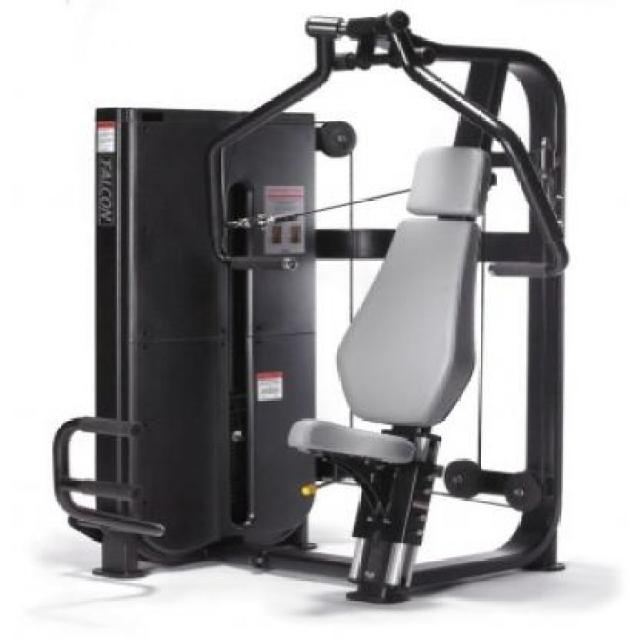Chest Press machine: (45, 9, 583, 622)
